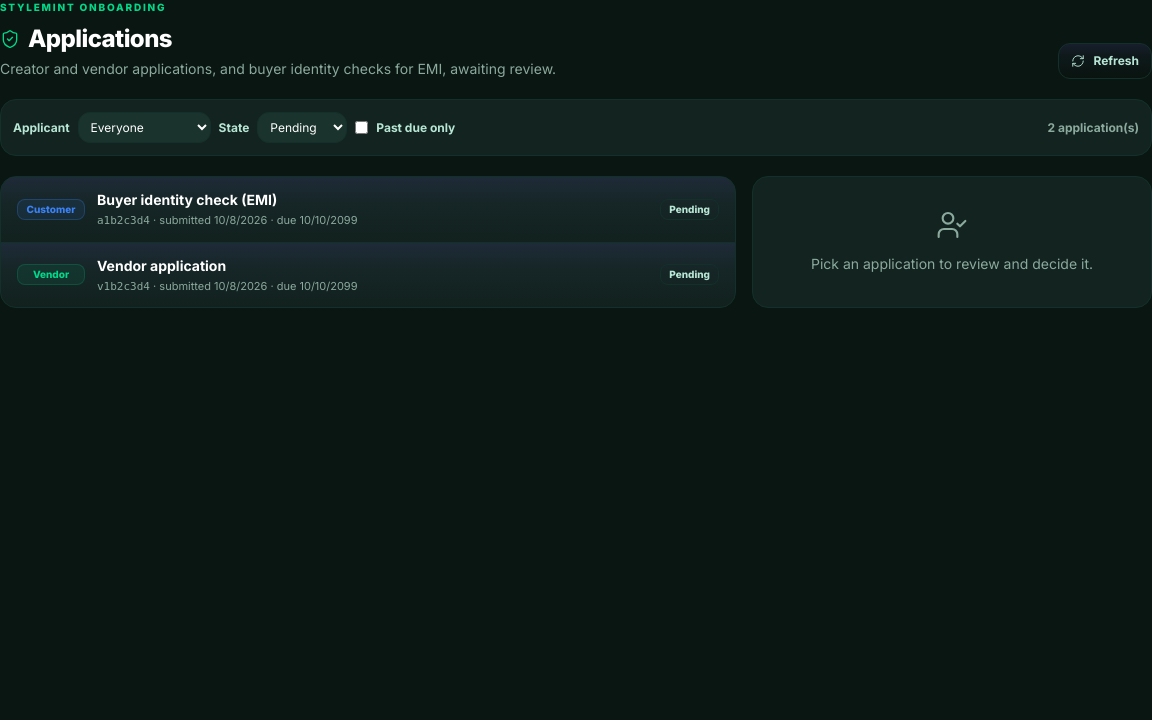
Test: KycReviewPage — buyer identity checks › says which photo is missing instead of leaving a gap
Step 1. Click the text "Buyer identity check (EMI)" → x=187, y=200, box [97,191,277,208]
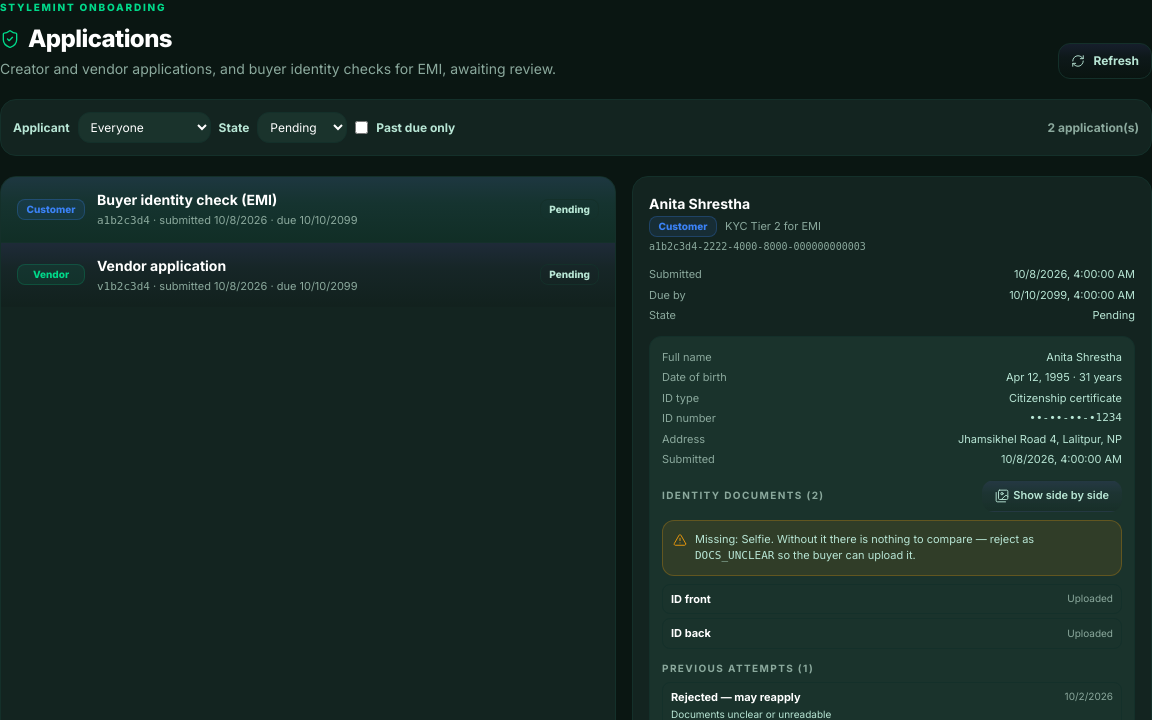
Expected: the text "Missing: Selfie" is shown, [695,532,1034,562]
